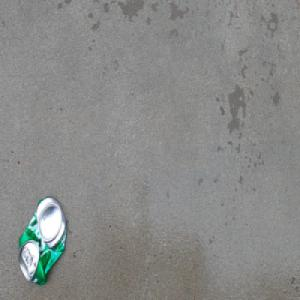SodaCan: (17, 193, 68, 287)
